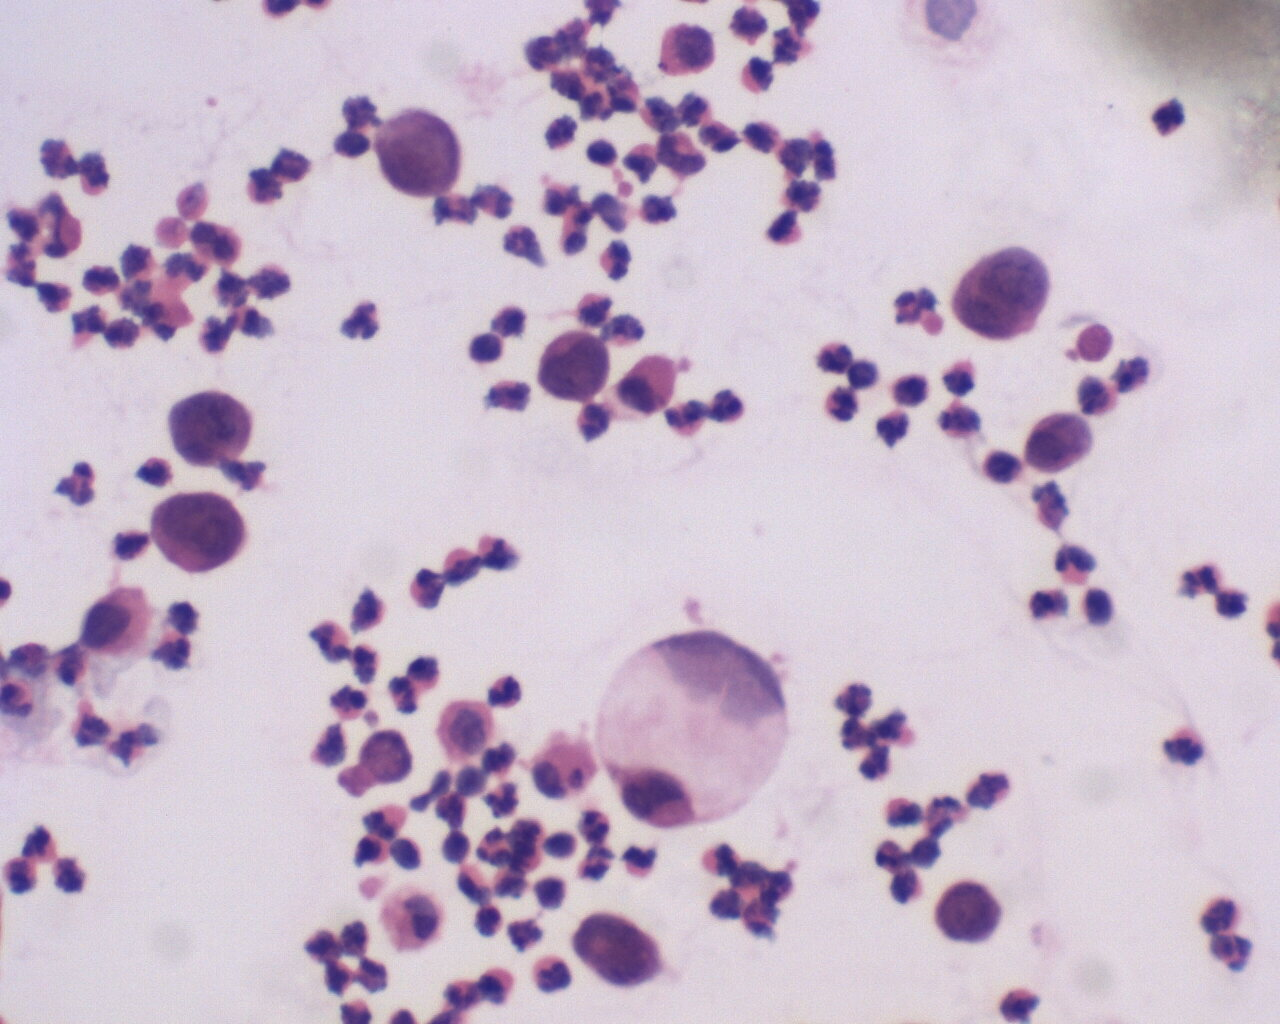ab: (951, 233, 1054, 348), (371, 106, 467, 200), (149, 489, 246, 576), (569, 913, 667, 998), (165, 386, 256, 468), (530, 329, 610, 402), (82, 584, 153, 664), (935, 872, 1005, 947), (653, 20, 716, 83)
histo: (594, 629, 792, 828)
lymph: (466, 329, 506, 366), (584, 135, 622, 168)
neutro: (334, 298, 392, 345), (596, 237, 645, 281), (820, 380, 864, 427), (1150, 92, 1191, 142), (329, 681, 374, 722), (618, 842, 662, 882), (875, 405, 917, 445), (488, 671, 527, 714)
